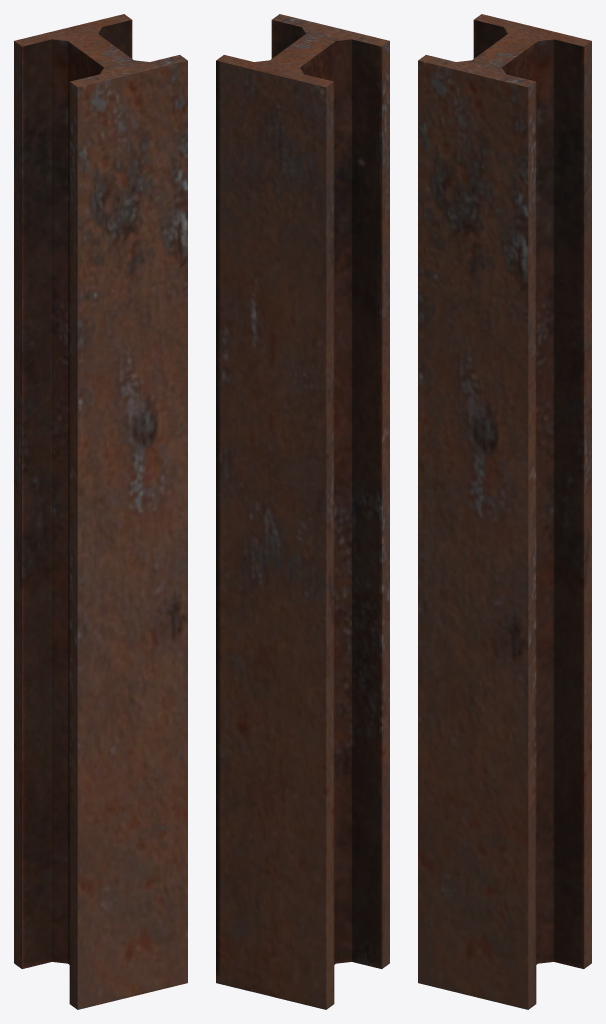
Rendered from girder_rusty_straight_short.dae.
3 views of the same model, side by side, from view 1: azimuth 30°, elevation 25°; view 2: azimuth 150°, elevation 25°; view 3: azimuth 330°, elevation 25° (orthographic).
Parts seen in each view (by area): view 1: girder_rusty_straight_short; view 2: girder_rusty_straight_short; view 3: girder_rusty_straight_short.
Boxes of the visible parts, <box> form: girder_rusty_straight_short: <box>14,14,187,1009</box>; girder_rusty_straight_short: <box>216,14,389,1009</box>; girder_rusty_straight_short: <box>418,14,591,1009</box>.
Bounding box in the file's own units: 0.25 × 2 × 0.25.
